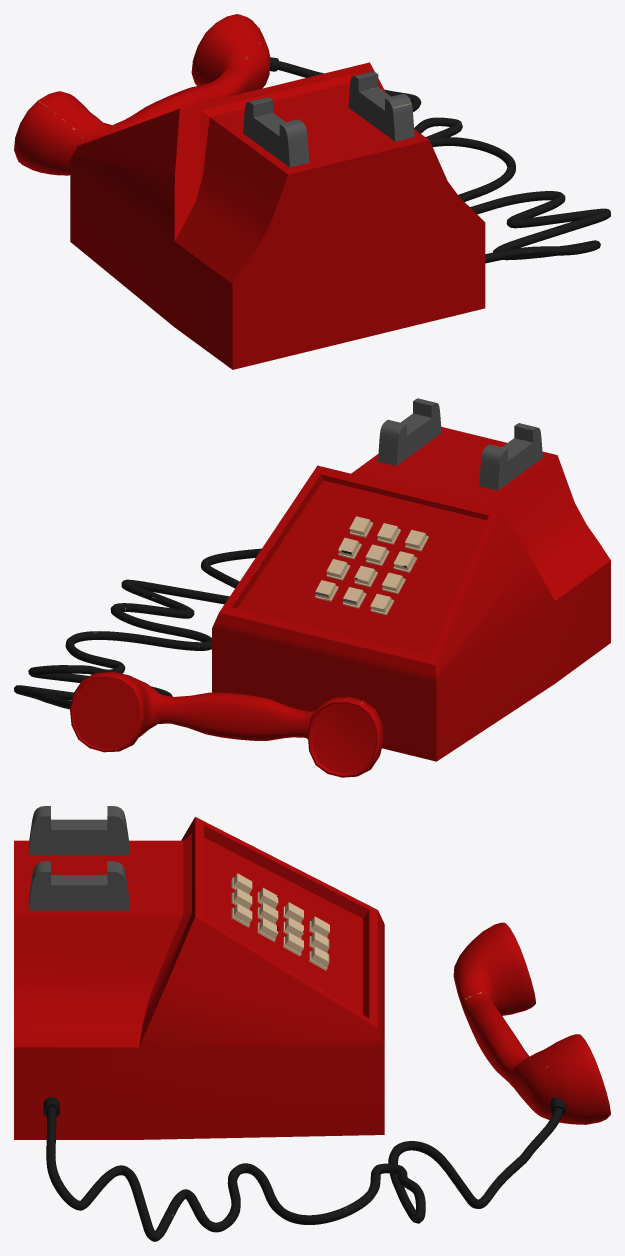
The model's file is phone(comp).fbx.
3 renders of one model, top to bottom at view 1: azimuth 30°, elevation 25°; view 2: azimuth 150°, elevation 25°; view 3: azimuth 270°, elevation 25°, orthographic. The views are drawn at different scales.
Parts seen in each view (by area): view 1: pCube54; view 2: pCube54; view 3: pCube54.
Part boxes in pixels (x1,y1,x2,y2): pCube54: (14,14,610,369); pCube54: (14,398,610,777); pCube54: (14,806,610,1241).
Size of the model in its own units: 1.8 by 0.8567 by 1.95.
1 material, 1 textured.
